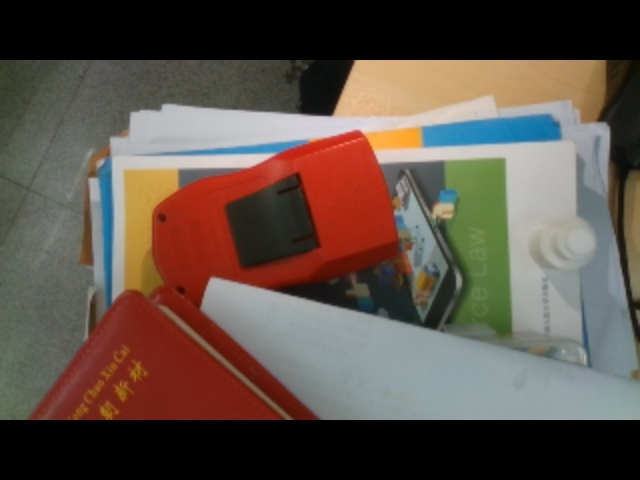Multimeter: (149, 130, 401, 297)
Screw holes: (155, 212, 169, 225)
